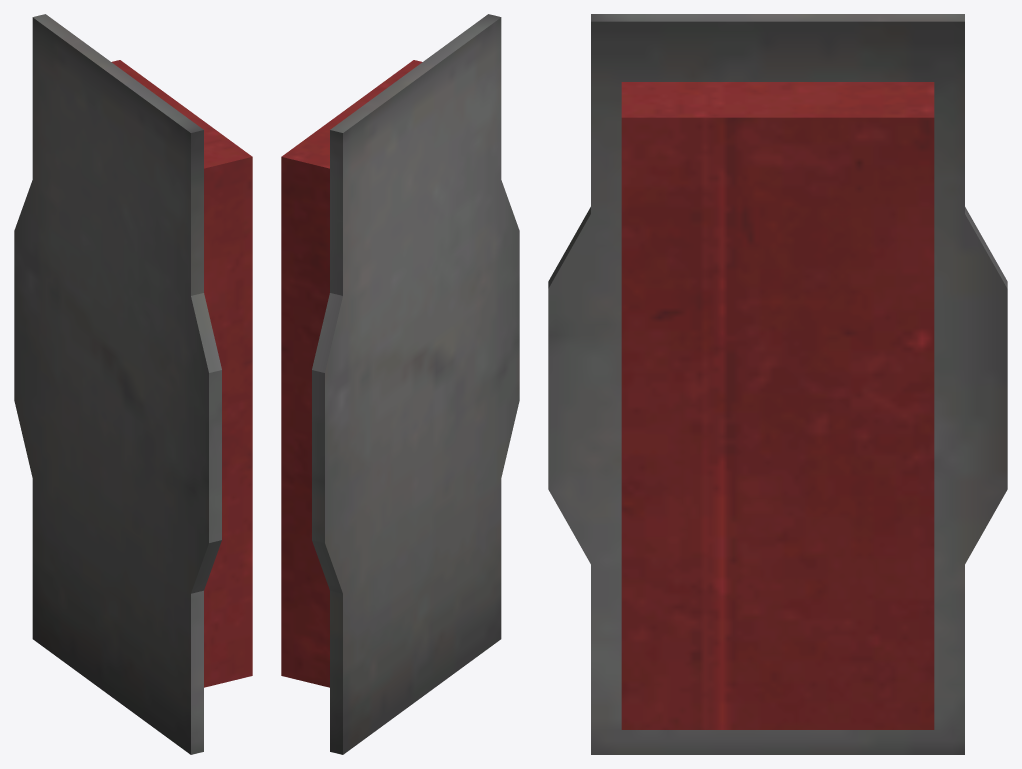
Rendered from p6_future_fire_extinguisher_case_base_mil_lod3.glb.
3 views of the same model, side by side, from view 1: azimuth 30°, elevation 25°; view 2: azimuth 150°, elevation 25°; view 3: azimuth 270°, elevation 25° (orthographic). The views are drawn at different scales.
Visible parts, largest first — view 1: surf0; view 2: surf0; view 3: surf0.
Part boxes in pixels (bbox=[...]): surf0: bbox=[14, 14, 252, 754]; surf0: bbox=[281, 14, 519, 754]; surf0: bbox=[548, 14, 1007, 754].
Bounding box in the file's own units: 5.04 × 40.15 × 22.78.
